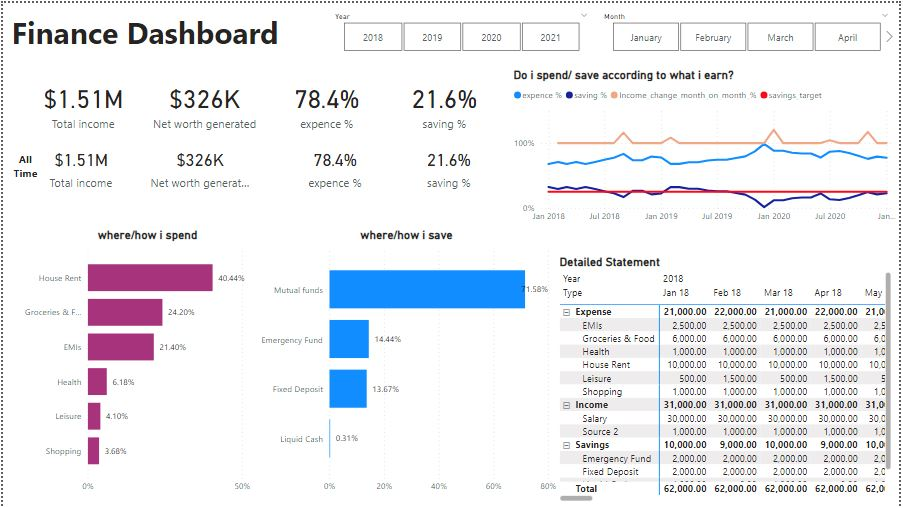

What the dashboard file says about the page in this screenshot:
{"tool":"powerbi","page":{"name":"dashboard","canvas":[1280,720],"ordinal":0},"visuals":[{"type":"slicer","fields":{"Values":["FinData.Date.Variation.Date Hierarchy.Year"]},"box":[462.1,6.5,386.2,68.1],"z":0},{"type":"slicer","fields":{"Values":["FinData.Date.Variation.Date Hierarchy.Month"]},"box":[845.7,6.5,432,68.1],"z":1000},{"type":"card","fields":{"Values":["FinData.Total income"]},"box":[53.7,189.9,114.2,89.5],"z":2000},{"type":"card","fields":{"Values":["FinData.Total saving"]},"box":[203.7,189.9,154.2,89.5],"z":3000},{"type":"card","fields":{"Values":["FinData.expence %"]},"box":[400.5,189.9,148.6,89.5],"z":4000},{"type":"card","fields":{"Values":["FinData.saving %"]},"box":[572.6,189.9,128,89.5],"z":5000},{"type":"textbox","box":[6.5,6.5,435.9,68.1],"z":6000},{"type":"barChart","title":"where/how i spend","fields":{"Category":["FinData.Component"],"Y":["FinData.total expences"]},"box":[10.5,322,392.7,387.5],"z":7000},{"type":"textbox","box":[6.9,207.8,49.5,71.6],"z":8000},{"type":"barChart","title":"where/how i save","fields":{"Category":["FinData.Component"],"Y":["FinData.Total saving"]},"box":[357.4,322,438.5,387.5],"z":9000},{"type":"lineChart","title":"Do i spend/ save according to what i earn?","fields":{"Y":["FinData.expence %","FinData.saving %","FinData.Income_change_month_on_month_%","FinData.savings_target"],"Category":["FinData.Date"]},"box":[724,92.2,556,229.8],"z":10000},{"type":"pivotTable","title":"Detailed Statement","fields":{"Values":["Sum(FinData.Value)"],"Rows":["FinData.Type","FinData.Component"],"Columns":["FinData.Year","FinData.Date"]},"box":[790.6,360.3,484,356.8],"z":11000},{"type":"card","fields":{"Values":["FinData.Total income"]},"box":[30.3,100.5,169.3,89.5],"z":12000},{"type":"card","fields":{"Values":["FinData.Total saving"]},"box":[199.6,100.5,176.2,89.5],"z":13000},{"type":"card","fields":{"Values":["FinData.expence %"]},"box":[375.7,100.5,173.4,89.5],"z":14000},{"type":"card","fields":{"Values":["FinData.saving %"]},"box":[549.2,100.5,163.8,89.5],"z":15000}]}

Visuals, with their boxes in screenshot pixels (x1, y1, x2, y2), scaled from the page's 1280x720 canvas onto the 903x507 screenshot:
slicer - FinData.Date.Variation.Date Hierarchy.Year: [326, 5, 598, 53]
slicer - FinData.Date.Variation.Date Hierarchy.Month: [597, 5, 901, 53]
card - FinData.Total income: [38, 134, 118, 197]
card - FinData.Total saving: [144, 134, 252, 197]
card - FinData.expence %: [283, 134, 387, 197]
card - FinData.saving %: [404, 134, 494, 197]
textbox: [5, 5, 312, 53]
"where/how i spend" barChart: [7, 227, 284, 500]
textbox: [5, 146, 40, 197]
"where/how i save" barChart: [252, 227, 561, 500]
"Do i spend/ save according to what i earn?" lineChart: [511, 65, 902, 227]
"Detailed Statement" pivotTable: [558, 254, 899, 505]
card - FinData.Total income: [21, 71, 141, 134]
card - FinData.Total saving: [141, 71, 265, 134]
card - FinData.expence %: [265, 71, 387, 134]
card - FinData.saving %: [387, 71, 503, 134]
